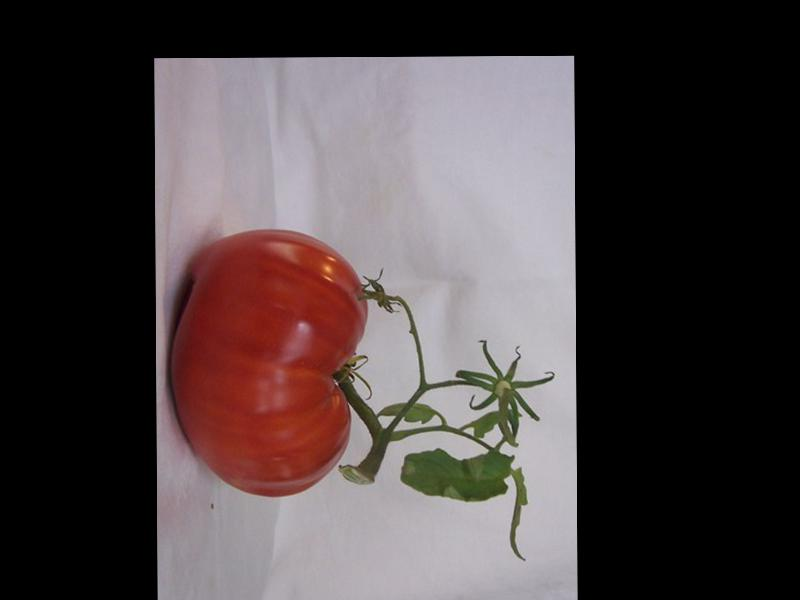Tomato: (168, 228, 368, 499)
